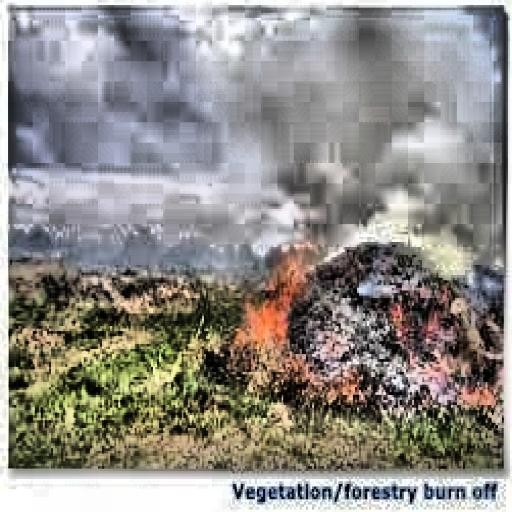fire: (232, 237, 328, 351)
